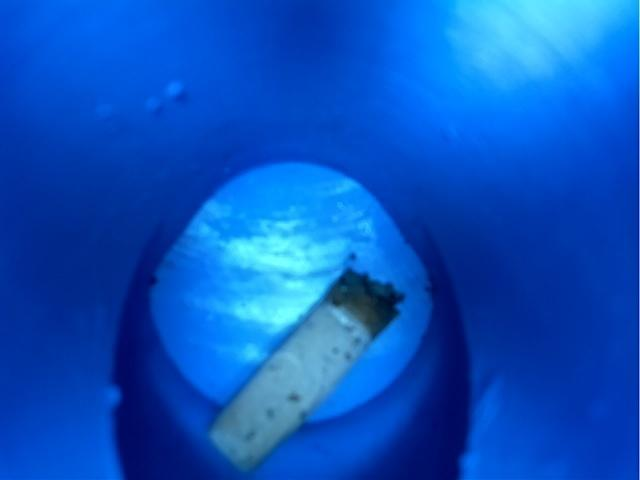megot: (201, 261, 410, 477)
